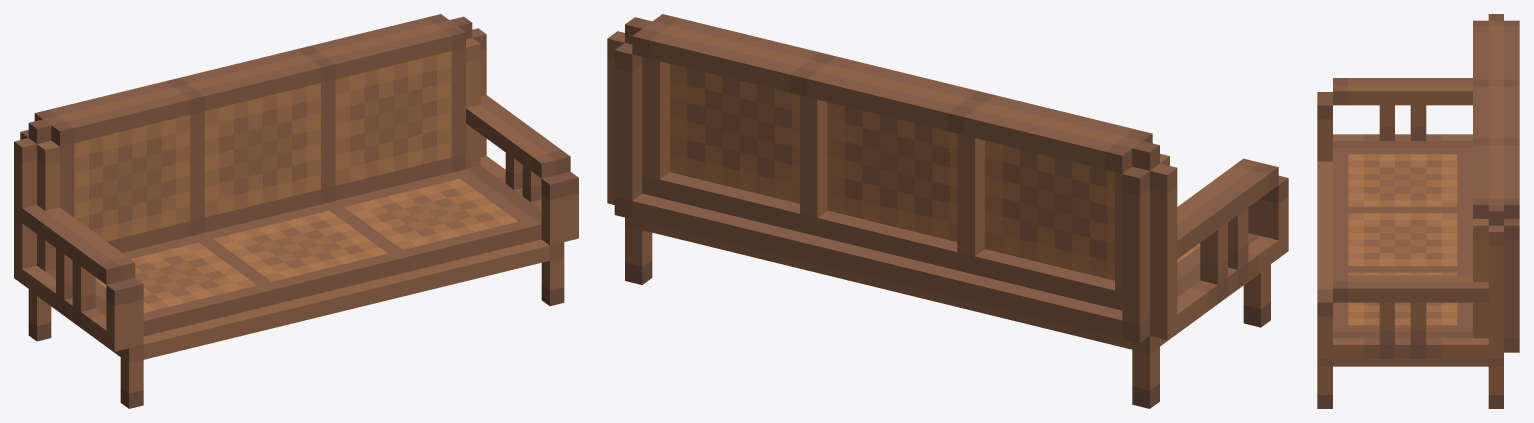
The model's file is Interior_Furniture_Couch_03.obj.
The picture shows the model from 3 angles, left to right: view 1: azimuth 30°, elevation 25°; view 2: azimuth 150°, elevation 25°; view 3: azimuth 270°, elevation 25°; orthographic projection. The views are drawn at different scales.
Size of the model in its own units: 3.2 by 1.4 by 1.3.
1 material, 1 textured.
